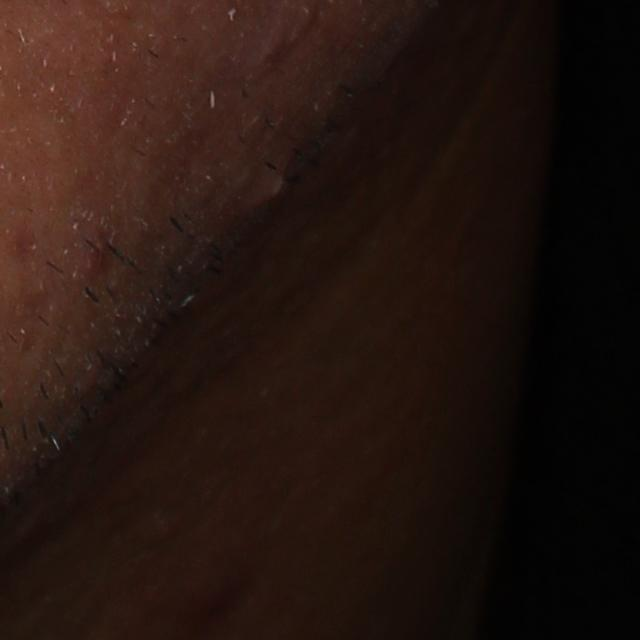papule: (86, 225, 122, 275)
